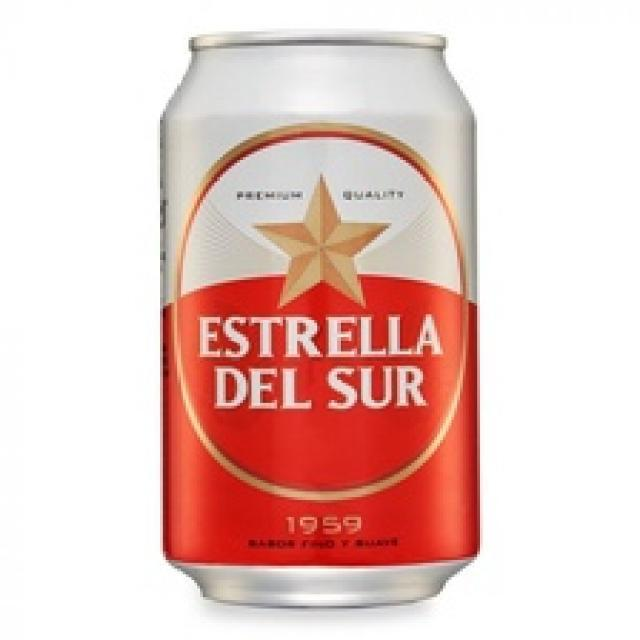recyclable: (160, 26, 476, 612)
